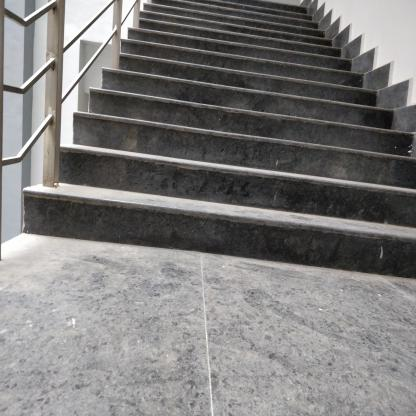stairs: (146, 7, 308, 278)
